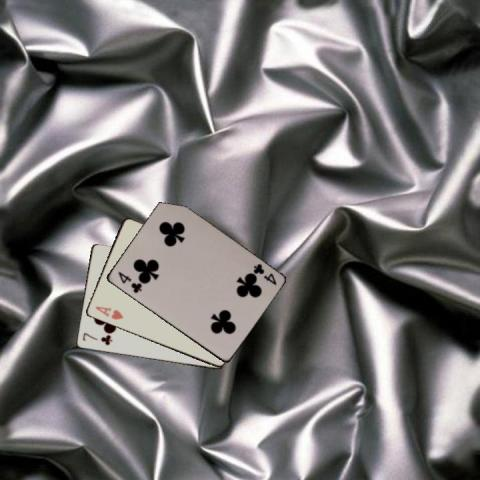4c: (114, 268, 142, 294), (250, 260, 278, 286)
7c: (80, 330, 114, 347)
Ah: (92, 303, 125, 322)
